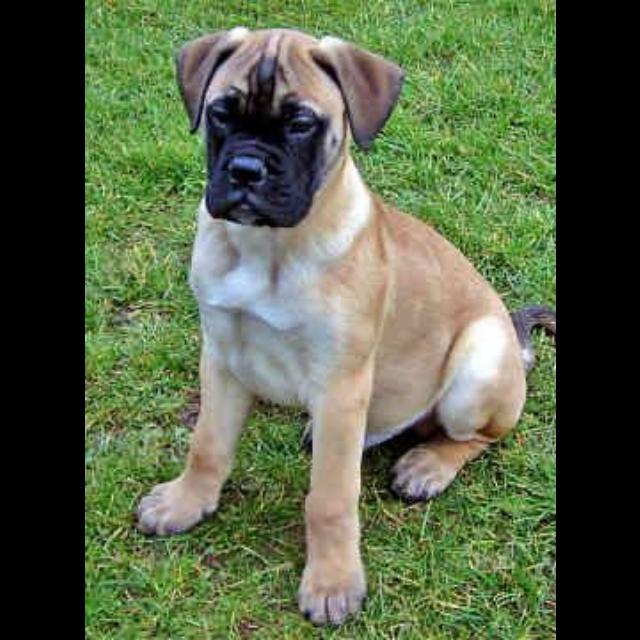bullmastiff: (134, 26, 555, 628)
